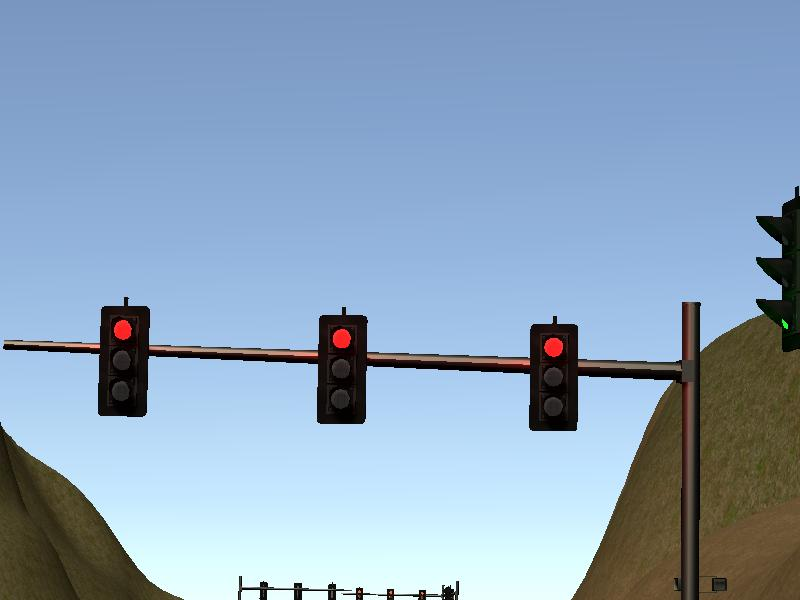Red: (317, 314, 366, 425), (99, 305, 146, 417), (530, 324, 577, 429)
